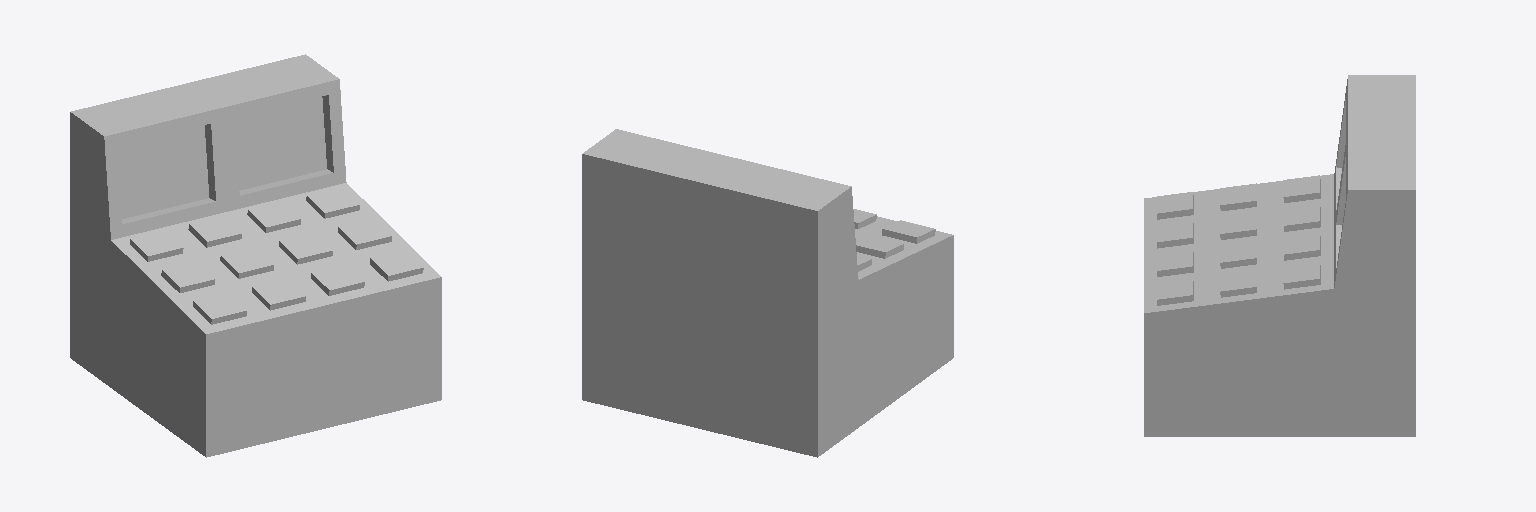
Rendered from terminal.obj.
3 renders of one model, left to right at view 1: azimuth 30°, elevation 25°; view 2: azimuth 150°, elevation 25°; view 3: azimuth 270°, elevation 25°, orthographic.
Visible parts, largest first — view 1: Cube_Cube.001; view 2: Cube_Cube.001; view 3: Cube_Cube.001.
Boxes of the visible parts, x1=… form: Cube_Cube.001: x1=70, y1=54, x2=441, y2=457; Cube_Cube.001: x1=582, y1=129, x2=953, y2=457; Cube_Cube.001: x1=1144, y1=75, x2=1415, y2=436.
Size of the model in its own units: 2 by 2 by 2.